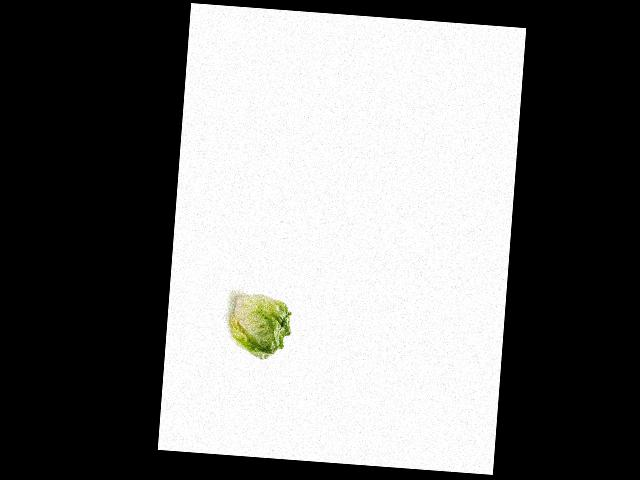lettuce: (228, 287, 296, 364)
